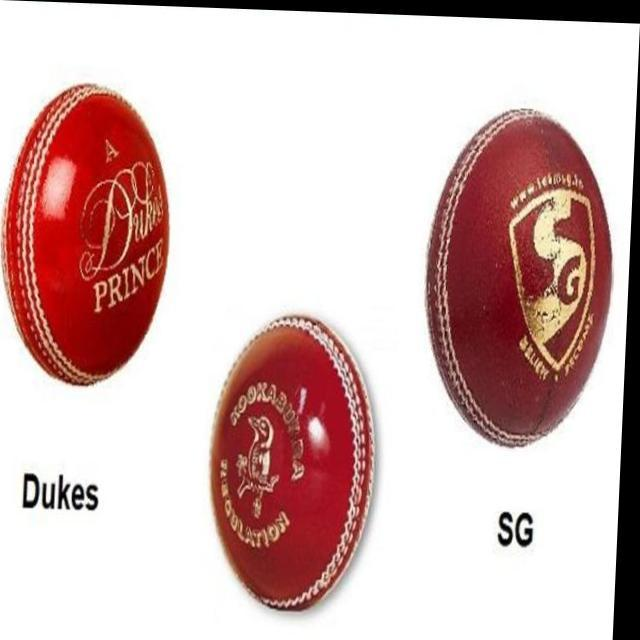cricket ball: (427, 105, 616, 446), (3, 82, 172, 386), (213, 310, 379, 610)
